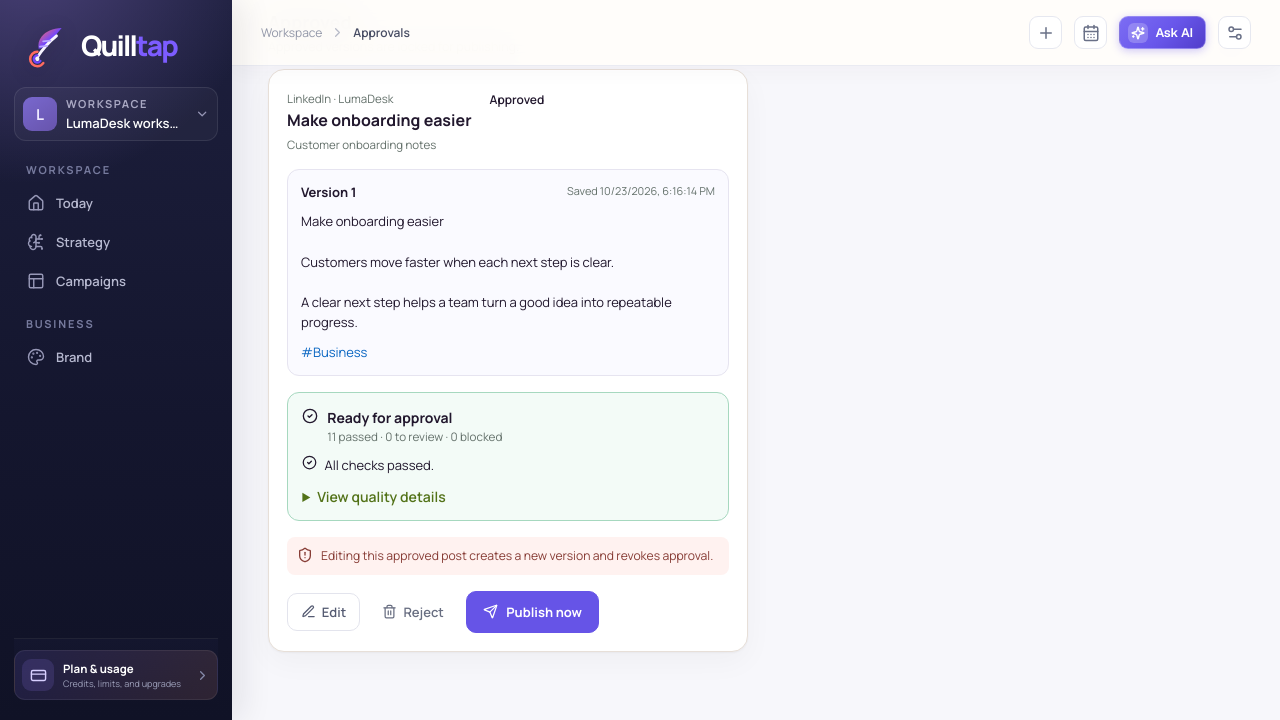
it: Quilltap core screens › publishes an approved version immediately
(page scrolled)
Click the button "Publish now". click: (533, 612)
box: [466,591,599,633]
(page scrolled)
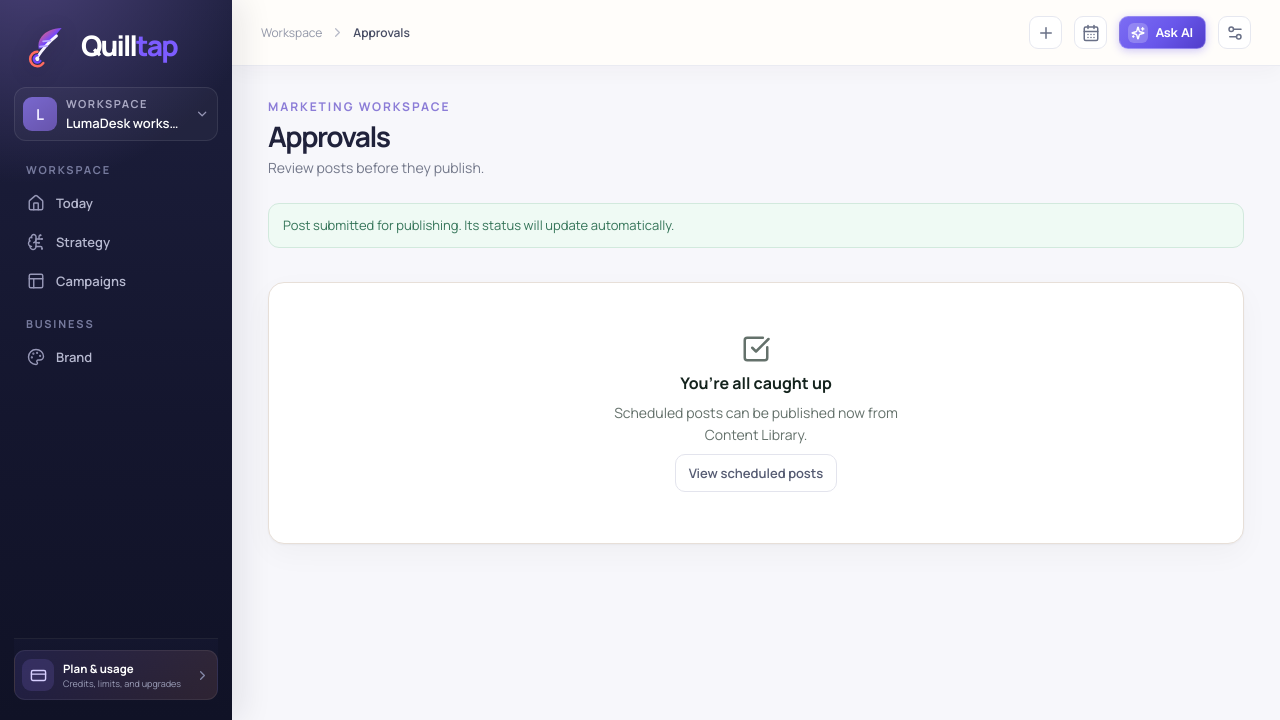
expect the text "Post submitted for publishing. Its status will update automatically." is shown: met, box [268,203,1244,248]
expect the button "Publish now" is gone: met
